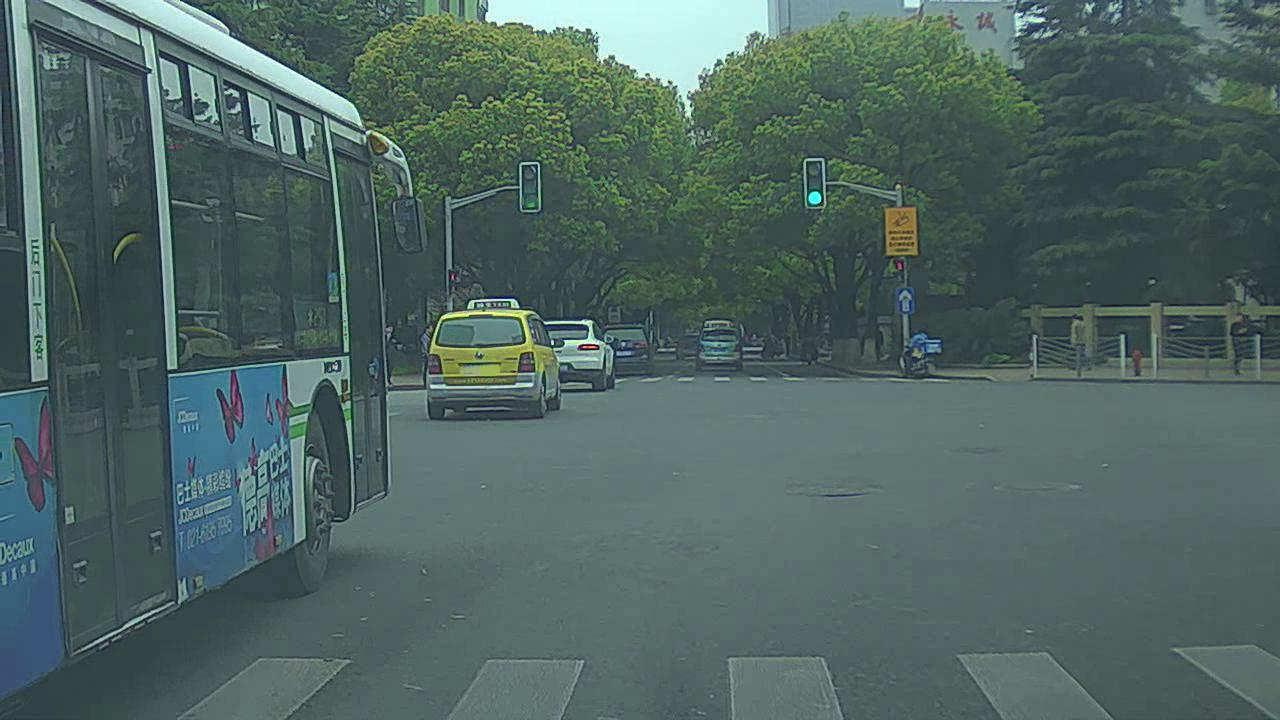traffic_light: (802, 158, 826, 213), (523, 161, 545, 213)
